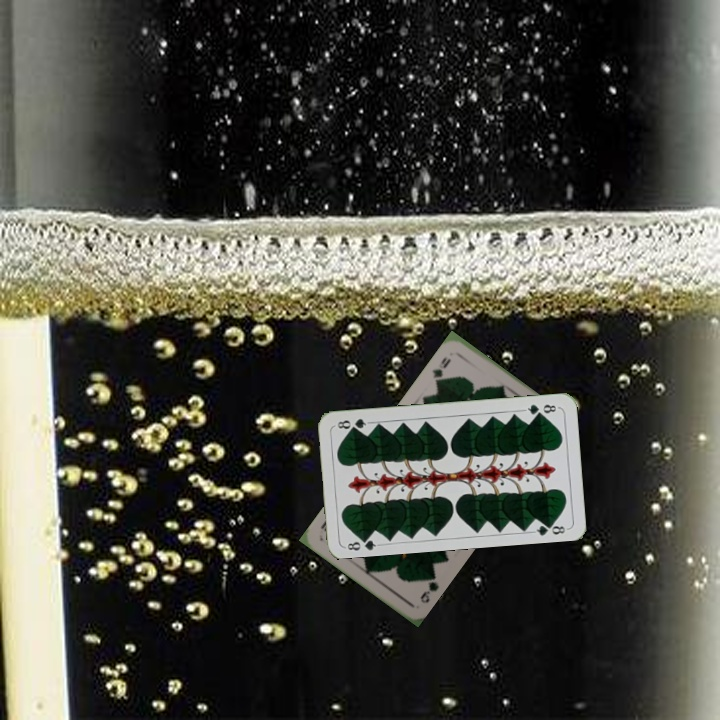G8: (342, 532, 382, 553), (520, 400, 561, 418)
G9: (416, 569, 441, 606), (428, 353, 454, 387)
